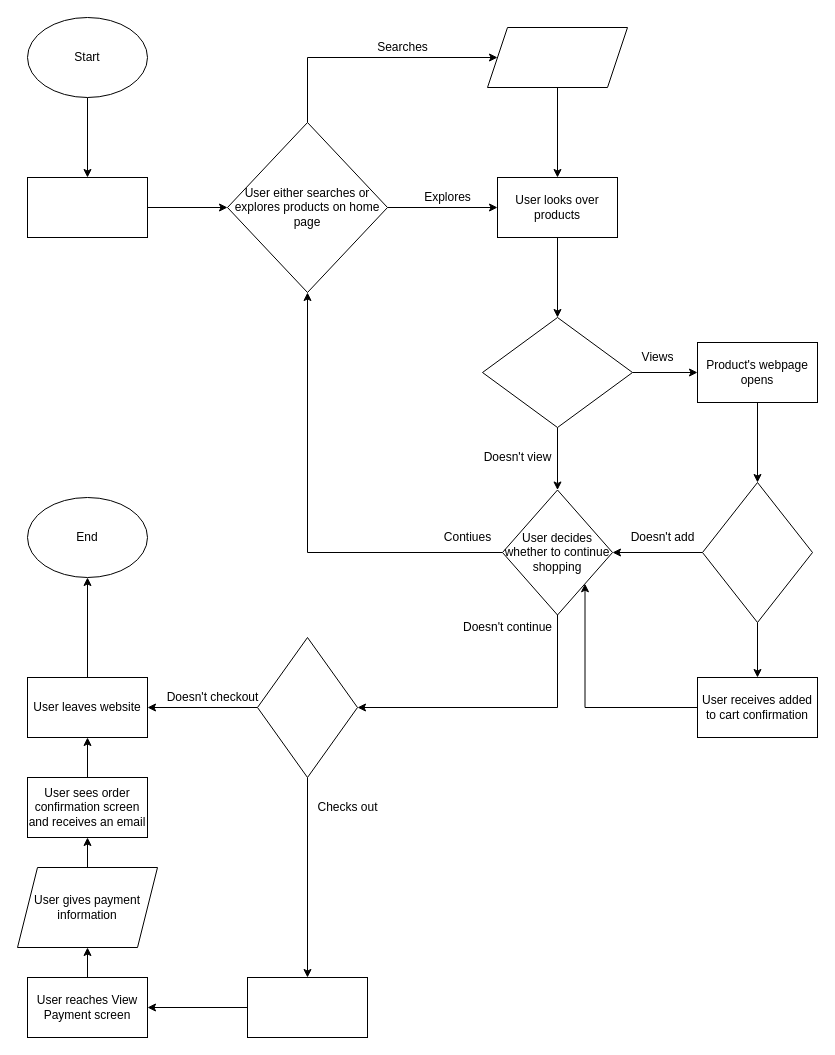
This 835x1055 diagram has some shape labels left out. The box of each missing label's shape, as (x1, y1, x2, y2) in pixels:
User chooses to add item to cart: (702, 482, 812, 622)
User chooses to view specific product: (482, 316, 632, 428)
User decides whether to checkout: (256, 636, 358, 778)
User enters website: (26, 176, 148, 238)
User inputs search request: (486, 26, 628, 88)
User reaches View Cart screen: (246, 976, 368, 1038)
